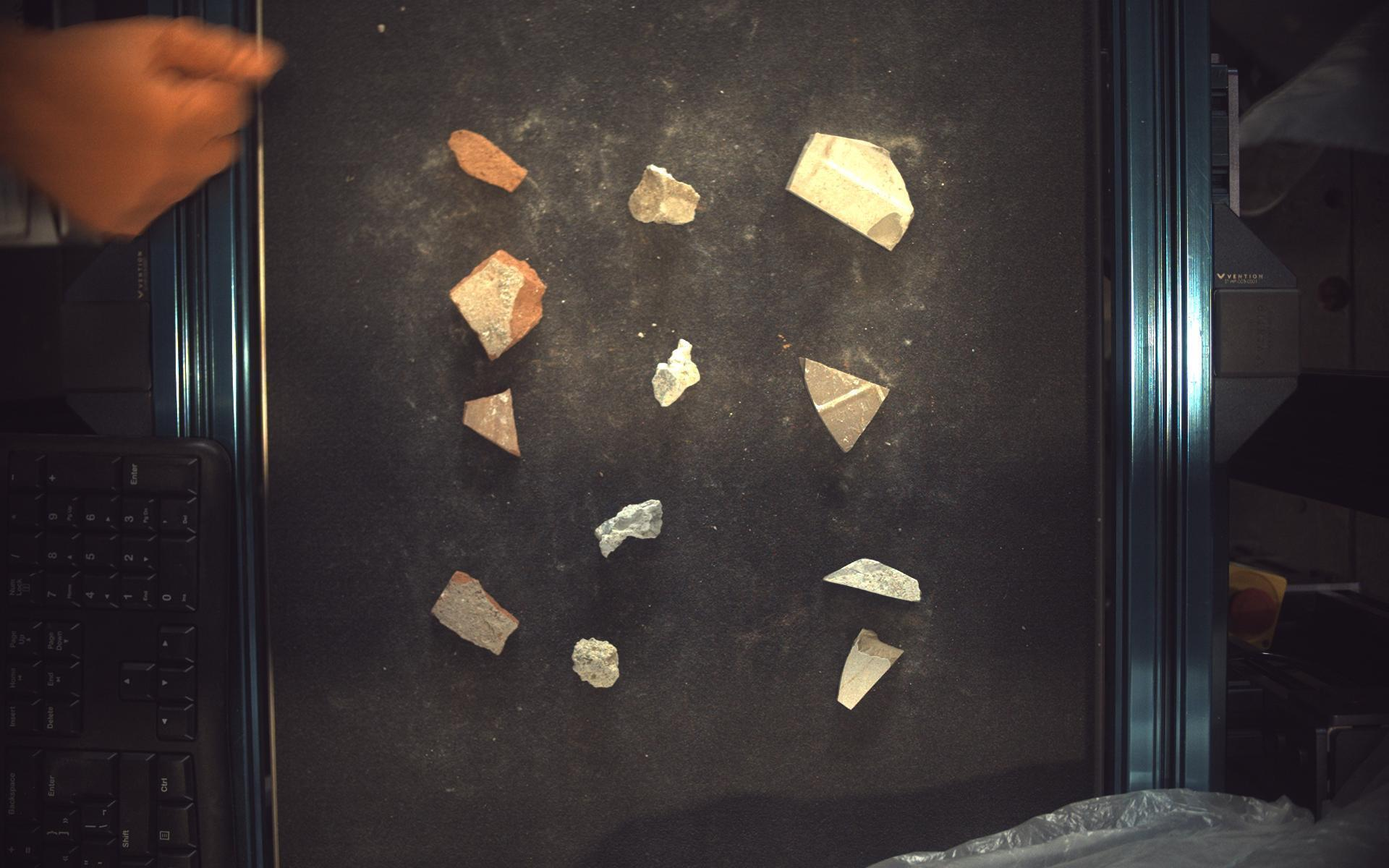brick: (450, 249, 546, 360), (432, 571, 519, 656), (448, 129, 528, 191), (464, 388, 521, 457)
concrete: (629, 164, 701, 224), (595, 500, 663, 558), (653, 339, 702, 407), (573, 639, 621, 689)
tile: (787, 132, 916, 249), (801, 357, 890, 452), (839, 629, 904, 710), (825, 559, 922, 603)
